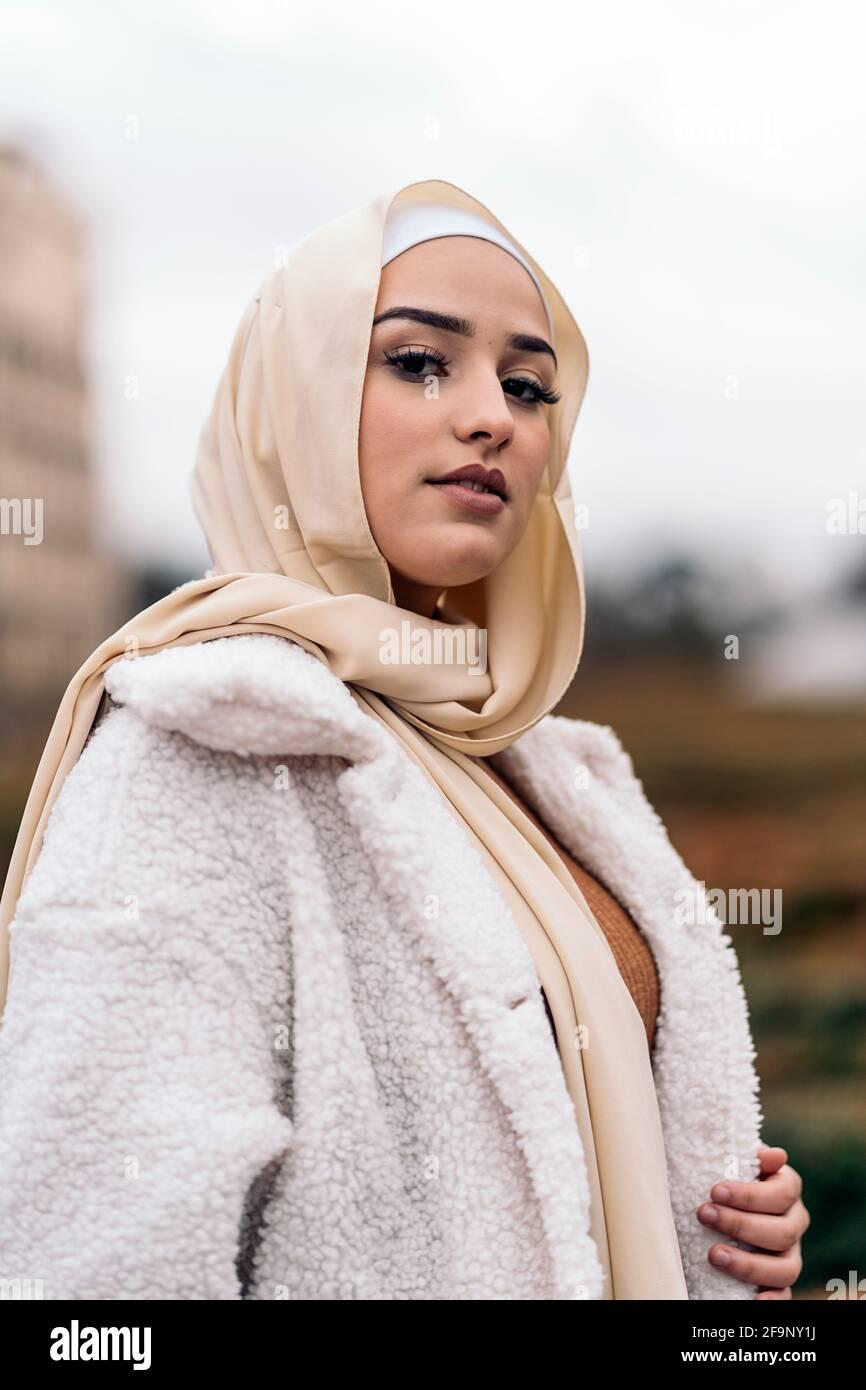scarf-kerchief: (157, 180, 607, 747)
